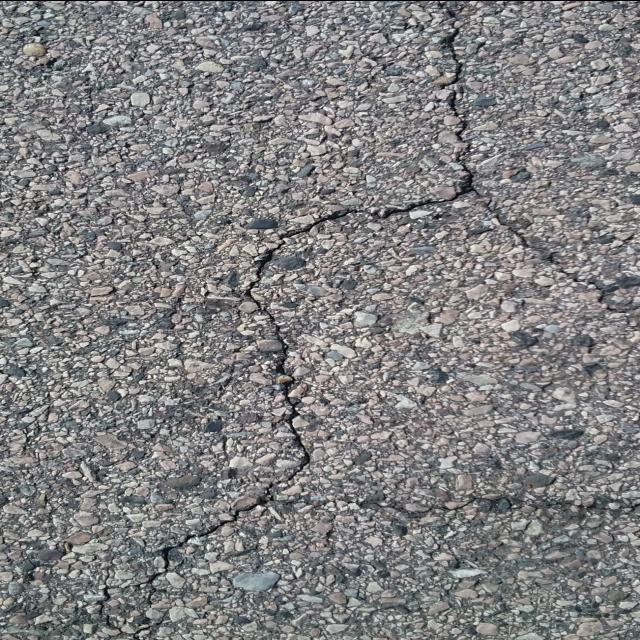Crack: (131, 0, 640, 640), (96, 558, 147, 640)
